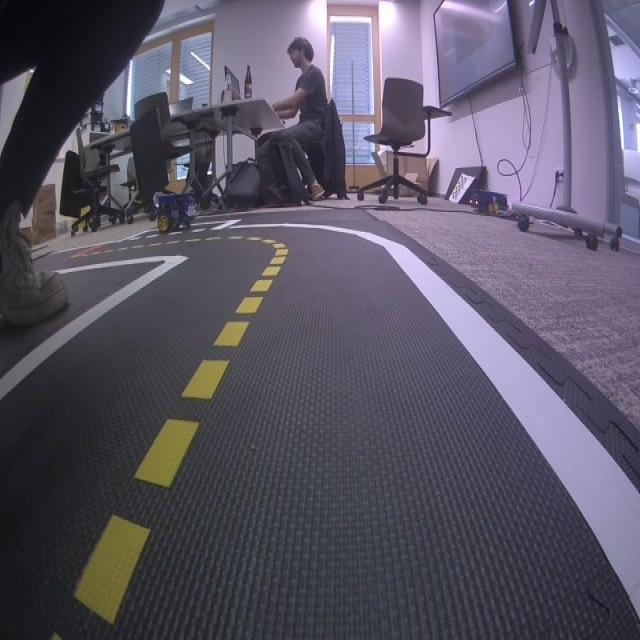bot: (153, 190, 198, 232)
park: (121, 219, 242, 242)
